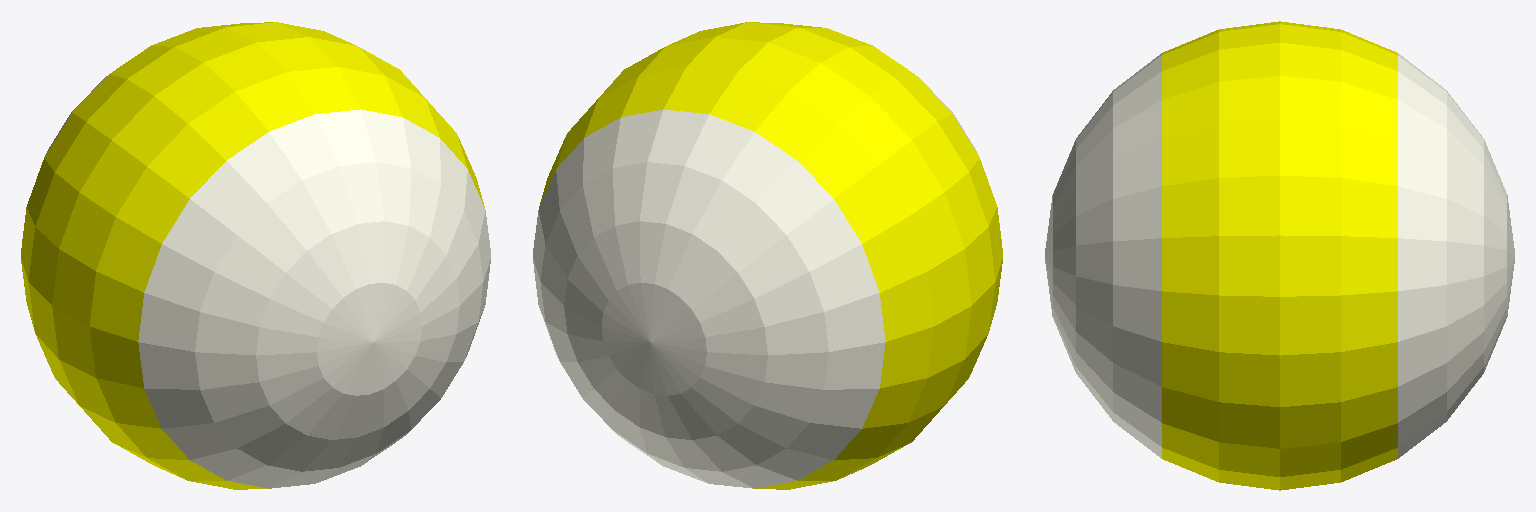
3 renders of one model, left to right at view 1: azimuth 30°, elevation 25°; view 2: azimuth 150°, elevation 25°; view 3: azimuth 270°, elevation 25°, orthographic.
Parts seen in each view (by area): view 1: Mesh02_1, band1_3, top__9_1_9; view 2: Mesh01_0, band1_3, top__9_1_9; view 3: band1_3, Mesh01_0, Mesh02_1, top__9_1_9.
Part boxes in pixels (bbox=[...]): Mesh02_1: bbox=[138, 109, 490, 488]; band1_3: bbox=[21, 23, 484, 488]; top__9_1_9: bbox=[156, 22, 355, 107]; Mesh01_0: bbox=[533, 109, 885, 488]; band1_3: bbox=[539, 23, 1002, 488]; top__9_1_9: bbox=[668, 22, 867, 107]; band1_3: bbox=[1162, 21, 1397, 490]; Mesh01_0: bbox=[1398, 53, 1514, 458]; Mesh02_1: bbox=[1045, 53, 1161, 458]; top__9_1_9: bbox=[1180, 22, 1379, 107].
Size of the model in its own units: 2.25 by 2.25 by 2.25.